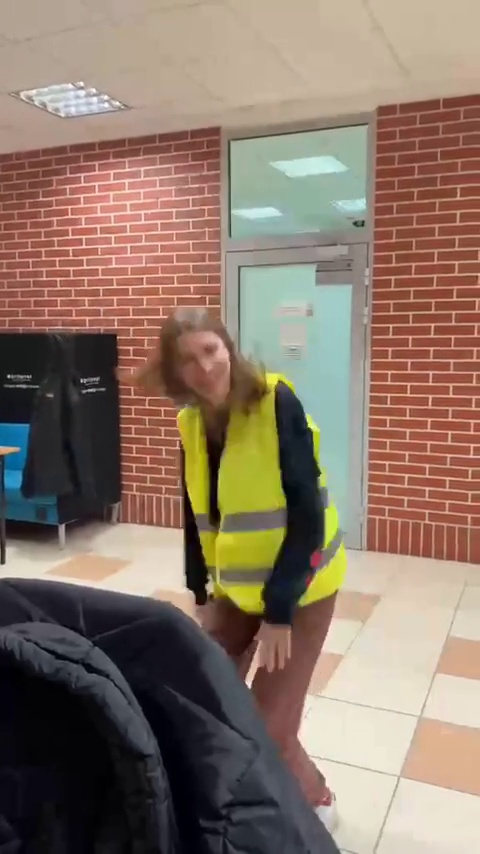vest: (154, 295, 353, 806)
